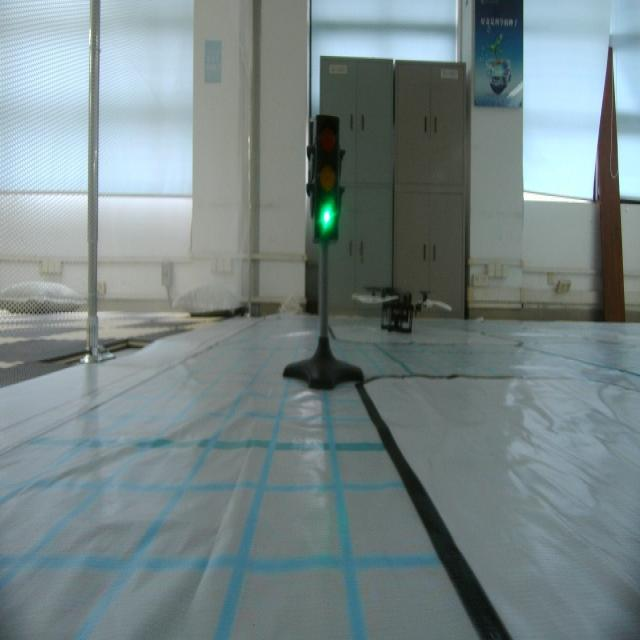green: (305, 115, 343, 240)
